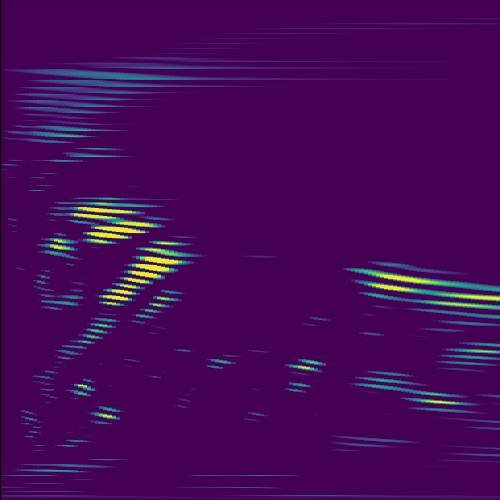semblance: (111, 238, 190, 288), (82, 218, 166, 251), (65, 203, 148, 222)
